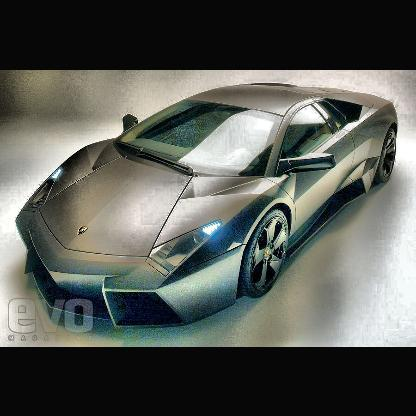Lamborghini Reventon Coupe 2008: (16, 83, 400, 332)
